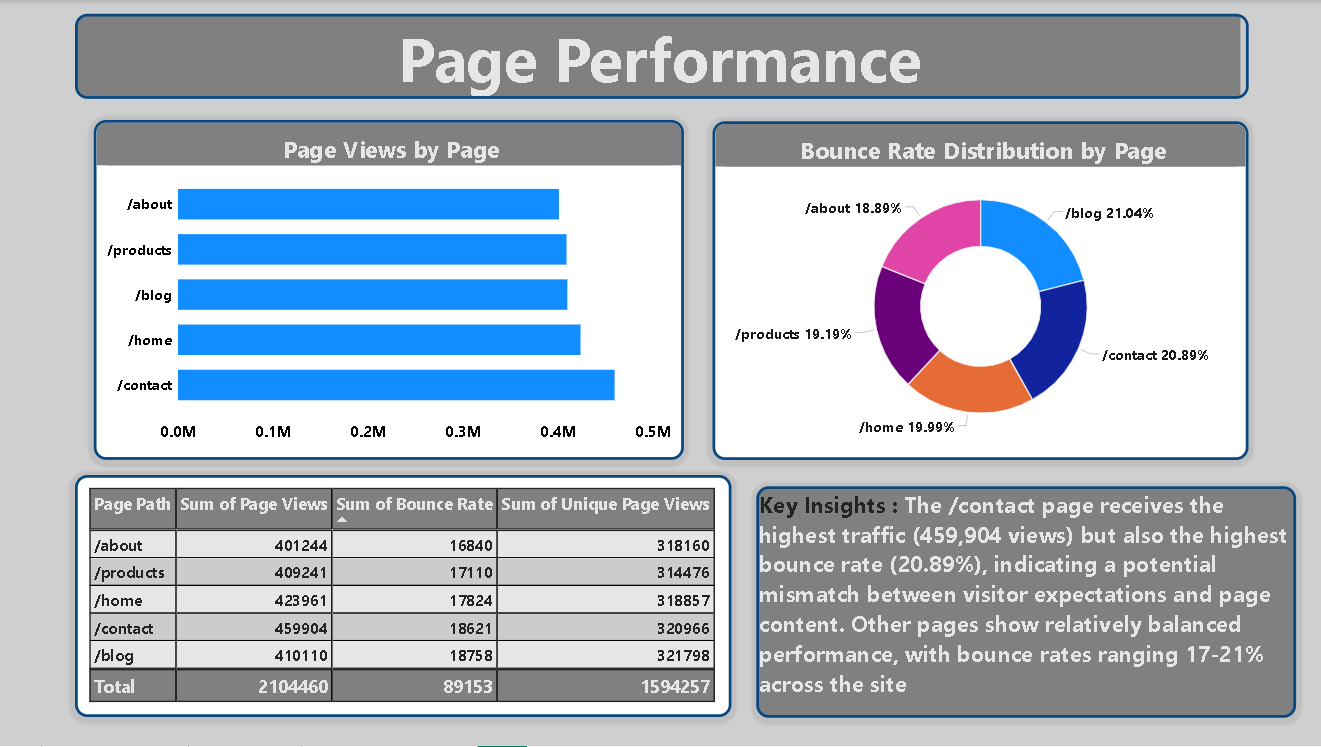

What the dashboard file says about the page in this screenshot:
{"tool":"powerbi","page":{"name":"Page Performance","canvas":[1920,1080],"ordinal":3},"visuals":[{"type":"clusteredBarChart","title":"Page Views by Page","fields":{"Category":["cleaned_traffic_data.Page Path"],"Y":["Sum(cleaned_traffic_data.Page Views)"]},"box":[135.7,173.7,854.2,492.2],"z":0},{"type":"donutChart","title":"Bounce Rate Distribution by Page","fields":{"Category":["cleaned_traffic_data.Page Path"],"Y":["Sum(cleaned_traffic_data.Bounce Rate)"]},"box":[1031.5,175.5,776.3,490.4],"z":1000},{"type":"tableEx","fields":{"Values":["cleaned_traffic_data.Page Path","Sum(cleaned_traffic_data.Page Views)","Sum(cleaned_traffic_data.Bounce Rate)","Sum(cleaned_traffic_data.Unique Page Views)"]},"box":[108.2,688.2,950.1,350.6],"z":2000},{"type":"textbox","box":[1095.1,703.3,781.3,335.4],"z":3000},{"type":"textbox","box":[108.6,19.9,1699.3,123.1],"z":3001}]}

Visuals, with their boxes in screenshot pixels (x1, y1, x2, y2), scaled from the page's 1920x1080 canvas onto the 1321x747 screenshot:
"Page Views by Page" clusteredBarChart: (93, 120, 681, 461)
"Bounce Rate Distribution by Page" donutChart: (710, 121, 1244, 461)
tableEx - cleaned_traffic_data.Page Path x Sum(cleaned_traffic_data.Page Views): (74, 476, 728, 719)
textbox: (753, 486, 1291, 718)
textbox: (75, 14, 1244, 99)
